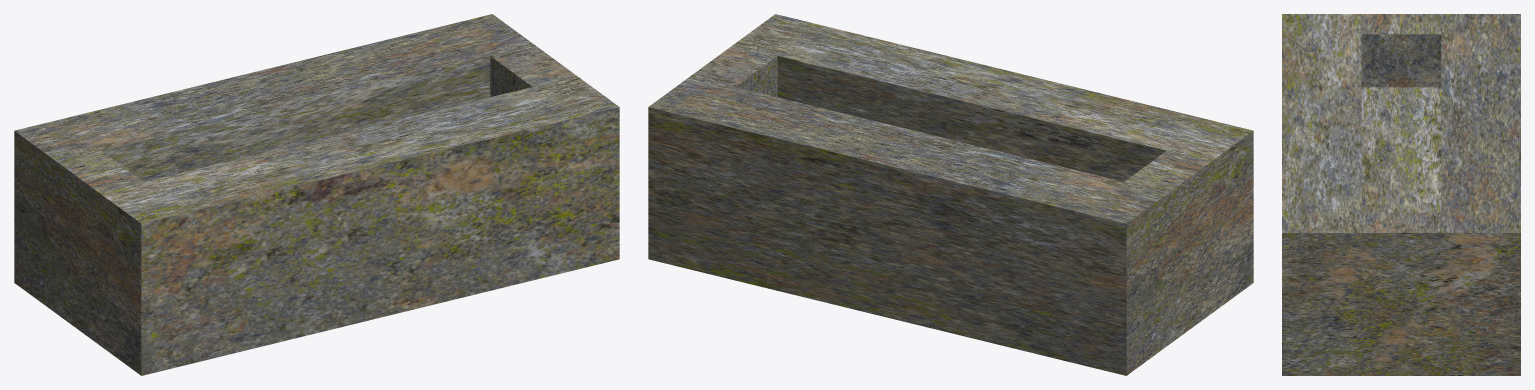
Rendered from leverbase.fbx.
3 renders of one model, left to right at view 1: azimuth 30°, elevation 25°; view 2: azimuth 150°, elevation 25°; view 3: azimuth 270°, elevation 25°, orthographic. The views are drawn at different scales.
Visible parts, largest first — view 1: LeverBAse; view 2: LeverBAse; view 3: LeverBAse.
Part boxes in pixels (bbox=[...]): LeverBAse: bbox=[14, 14, 619, 375]; LeverBAse: bbox=[648, 14, 1253, 375]; LeverBAse: bbox=[1282, 14, 1520, 375].
Size of the model in its own units: 200 by 60.82 by 92.14.
